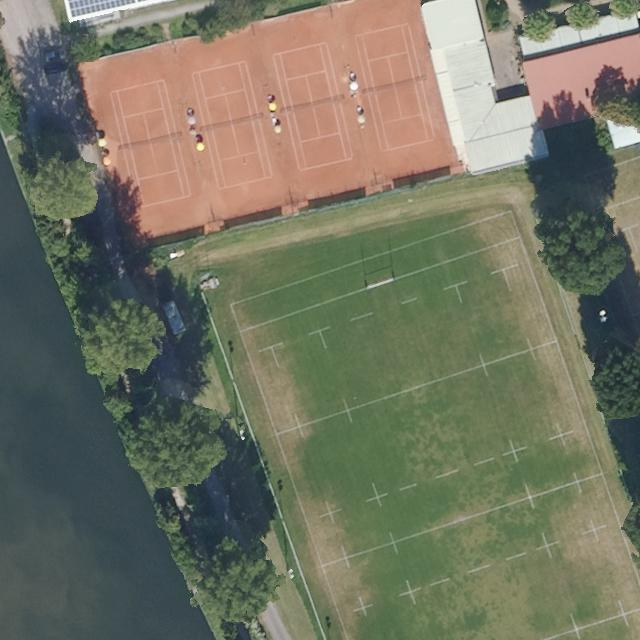PV: (66, 1, 151, 20)
